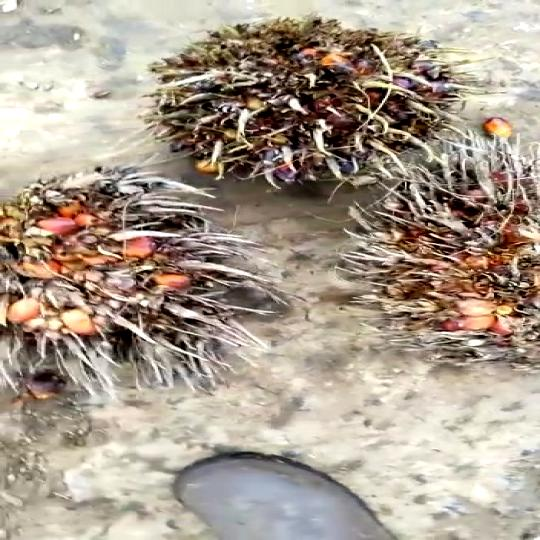terlalu masak: (0, 157, 301, 406), (128, 14, 470, 192), (334, 154, 540, 363)
